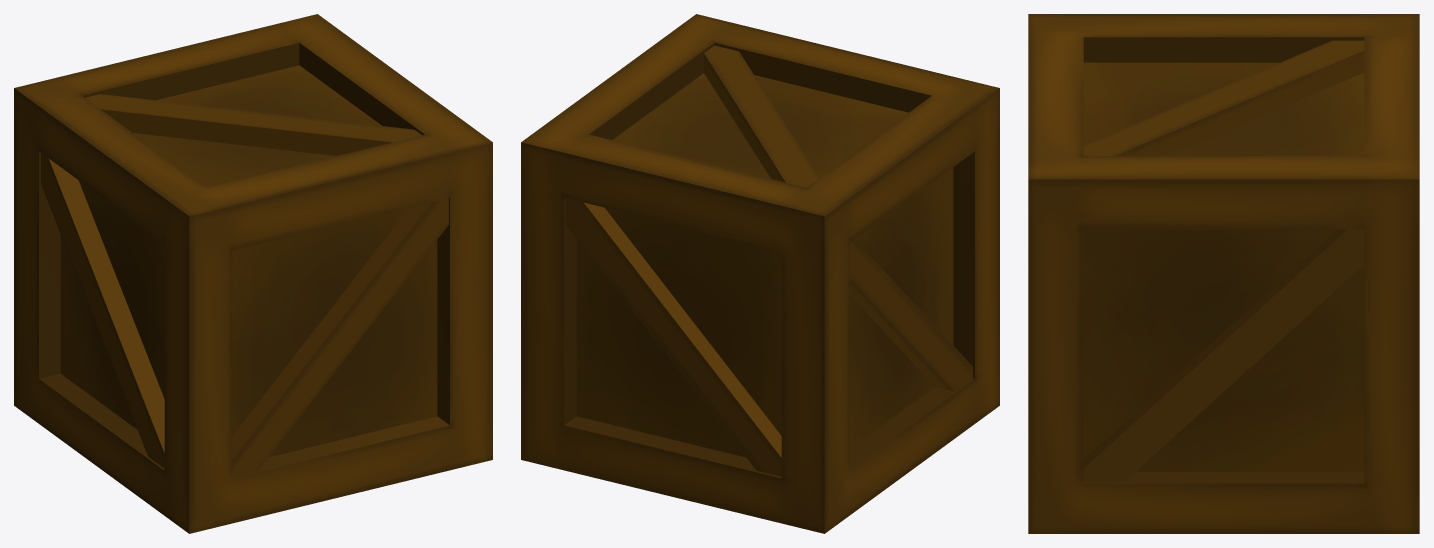
Rendered from crate.fbx.
3 renders of one model, left to right at view 1: azimuth 30°, elevation 25°; view 2: azimuth 150°, elevation 25°; view 3: azimuth 270°, elevation 25°, orthographic. The views are drawn at different scales.
Visible parts, largest first — view 1: crate; view 2: crate; view 3: crate.
Part boxes in pixels (x1,y1,x2,y2): crate: (14,14,492,533); crate: (521,14,999,533); crate: (1028,14,1419,533).
Size of the model in its own units: 30 by 30 by 30.
